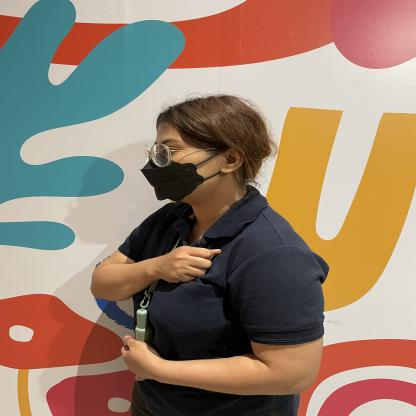Sadness: (87, 227, 252, 316)
